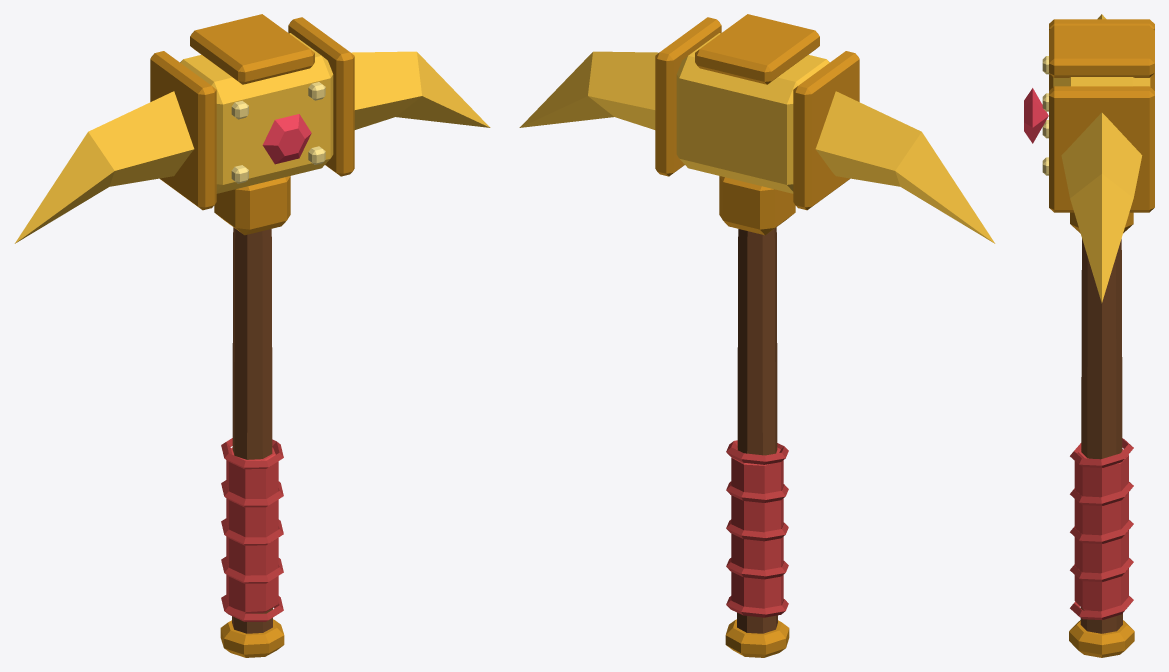
File: GoldHeavyPickaxe.fbx
3 views of the same model, side by side, from view 1: azimuth 30°, elevation 25°; view 2: azimuth 150°, elevation 25°; view 3: azimuth 270°, elevation 25° (orthographic).
Parts seen in each view (by area): view 1: GoldHeavyPickaxe; view 2: GoldHeavyPickaxe; view 3: GoldHeavyPickaxe.
Boxes of the visible parts, bbox=[...] form: GoldHeavyPickaxe: bbox=[14, 14, 490, 657]; GoldHeavyPickaxe: bbox=[519, 14, 995, 657]; GoldHeavyPickaxe: bbox=[1024, 14, 1154, 657].
Size of the model in its own units: 3.1 by 3.78 by 0.74.
1 material, 1 textured.
